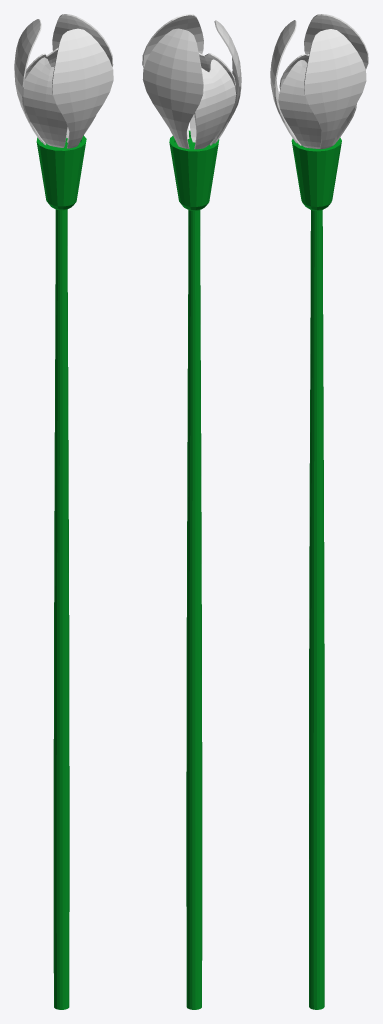
Rendered from PerceNeige_Mesh.fbx.
The picture shows the model from 3 angles, left to right: view 1: azimuth 30°, elevation 25°; view 2: azimuth 210°, elevation 25°; view 3: azimuth 270°, elevation 25°; orthographic projection.
Parts seen in each view (by area): view 1: Cylinder.008; view 2: Cylinder.008; view 3: Cylinder.008.
Boxes of the visible parts, <box> form: Cylinder.008: <box>14,14,113,1009</box>; Cylinder.008: <box>142,14,241,1009</box>; Cylinder.008: <box>270,14,368,1009</box>.
Bounding box in the file's own units: 16.78 × 174 × 15.76.
